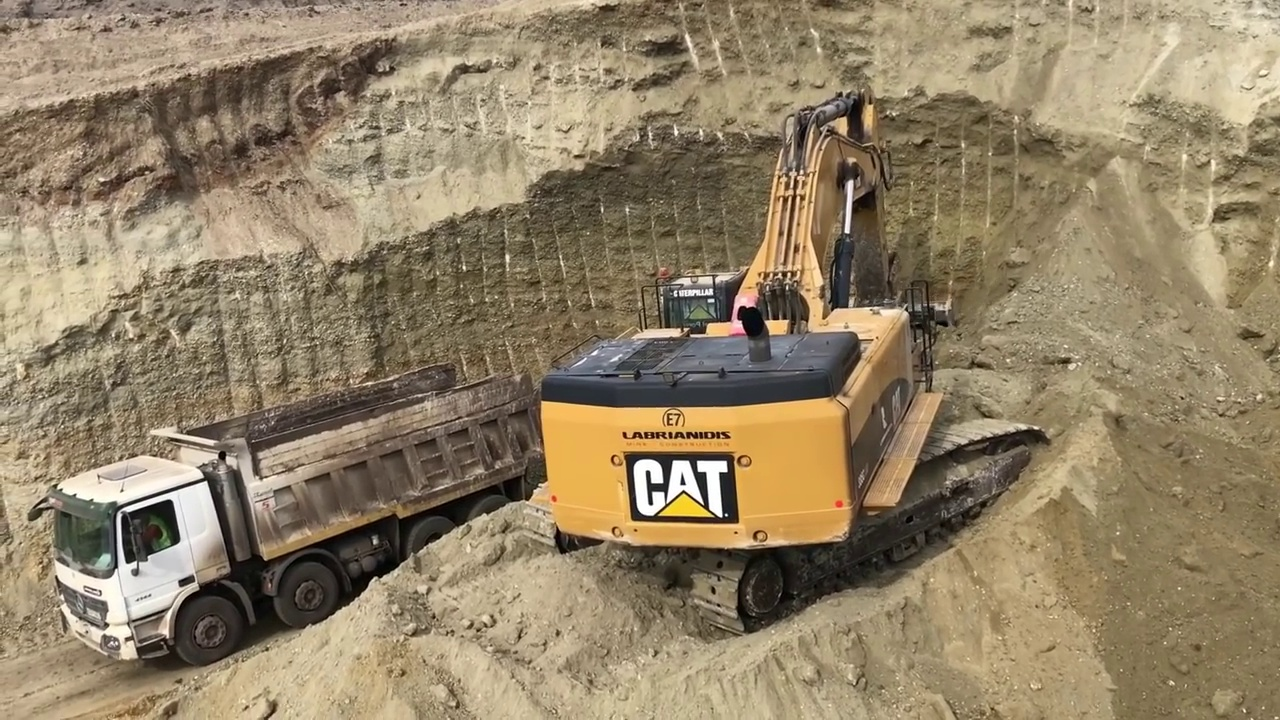excavator: (517, 83, 1054, 639)
truck: (24, 363, 583, 665)
